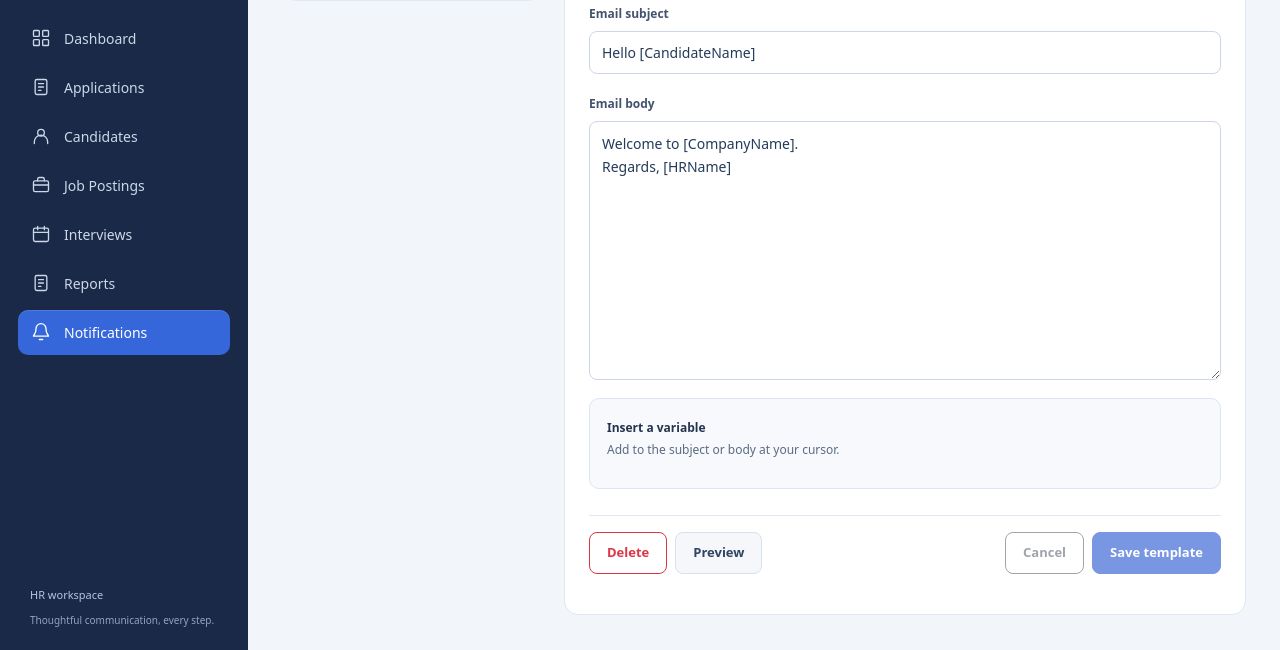
email templates › previews workflow variables as labelled placeholders without inventing interview or offer facts
The width and height of the screenshot is (1280, 650).
(page scrolled)
Replace the text in the text box labelled "Email body" with "[InterviewDate] [InterviewTime] [InterviewLocation] [OfferSalary] [OfferDeadline]": (905, 250) [589,120,1221,380]
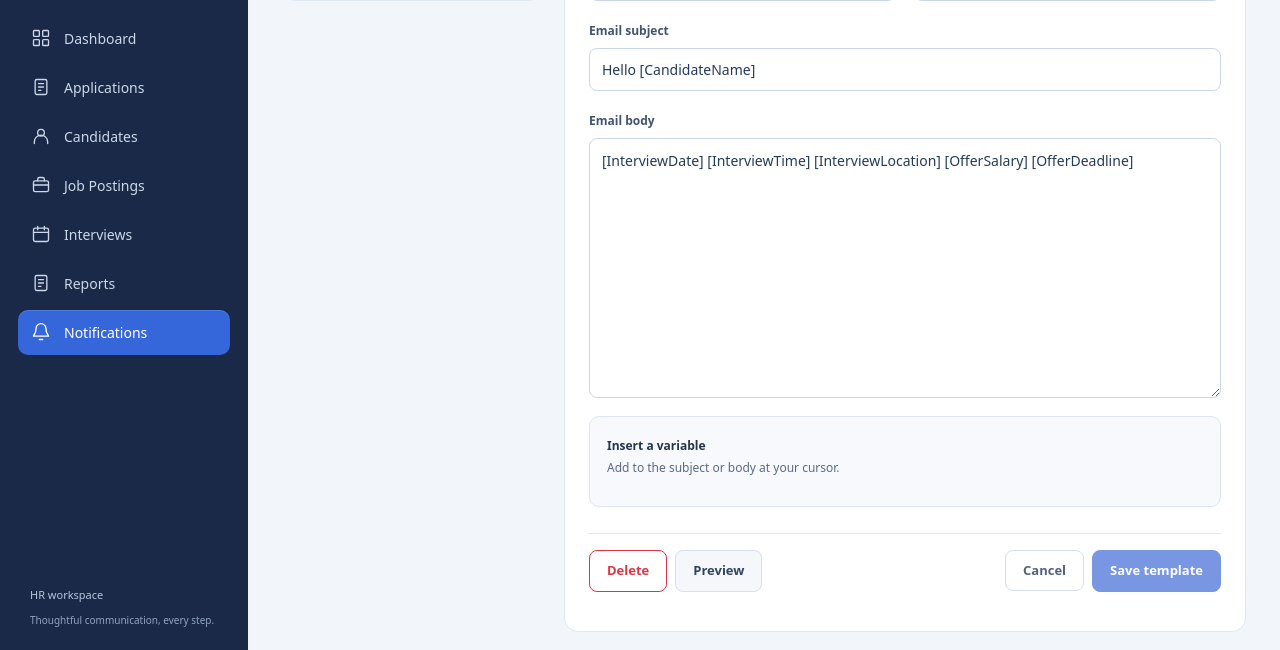
Click the button "Preview": (719, 571) [675,550,762,591]
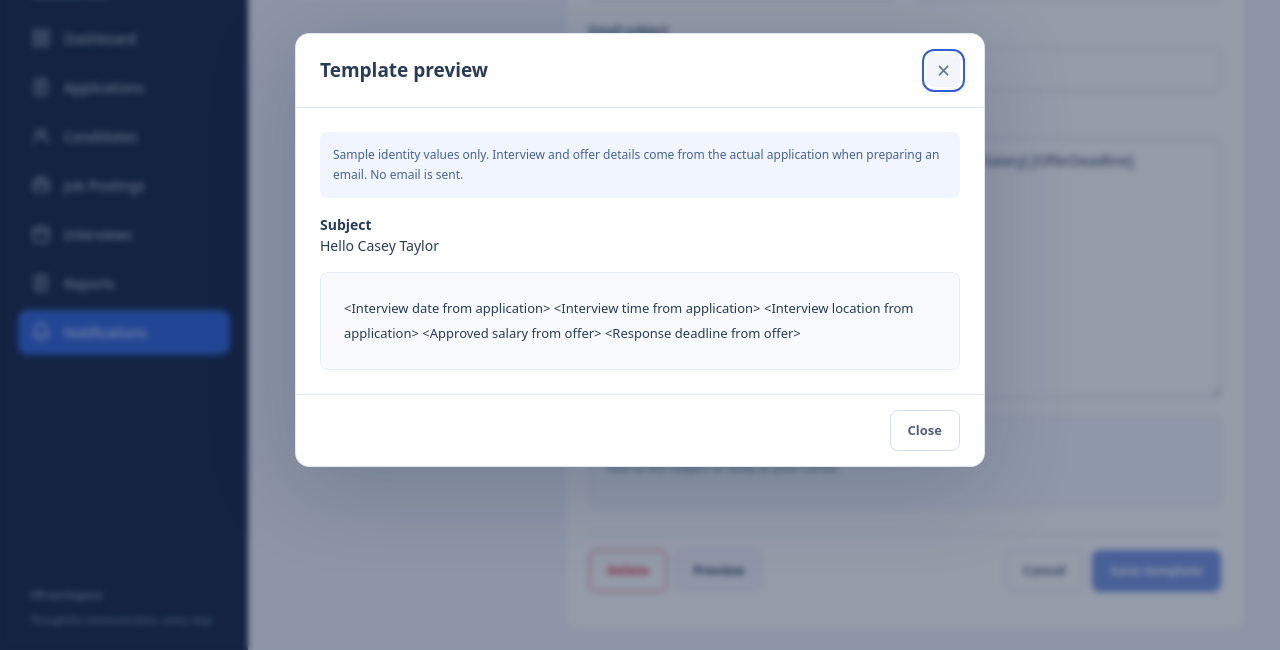
Expected: the dialog shows "Interview date from application", [344,300,917,342]
Expected: the dialog shows "Approved salary from offer", [344,300,917,342]
Expected: the dialog shows "actual application", [333,146,939,183]
